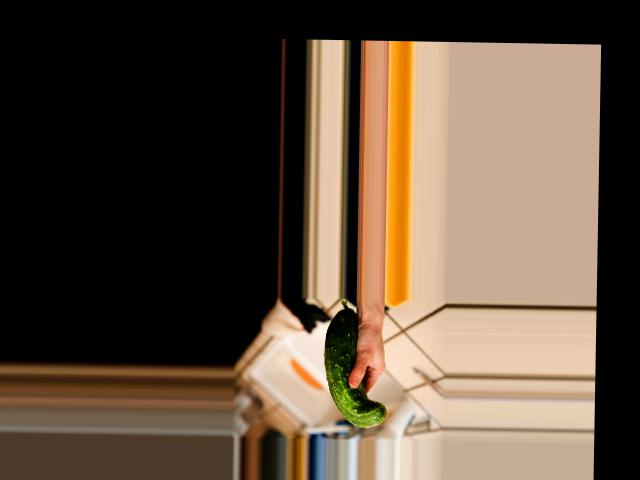cucumber: (322, 299, 388, 428)
